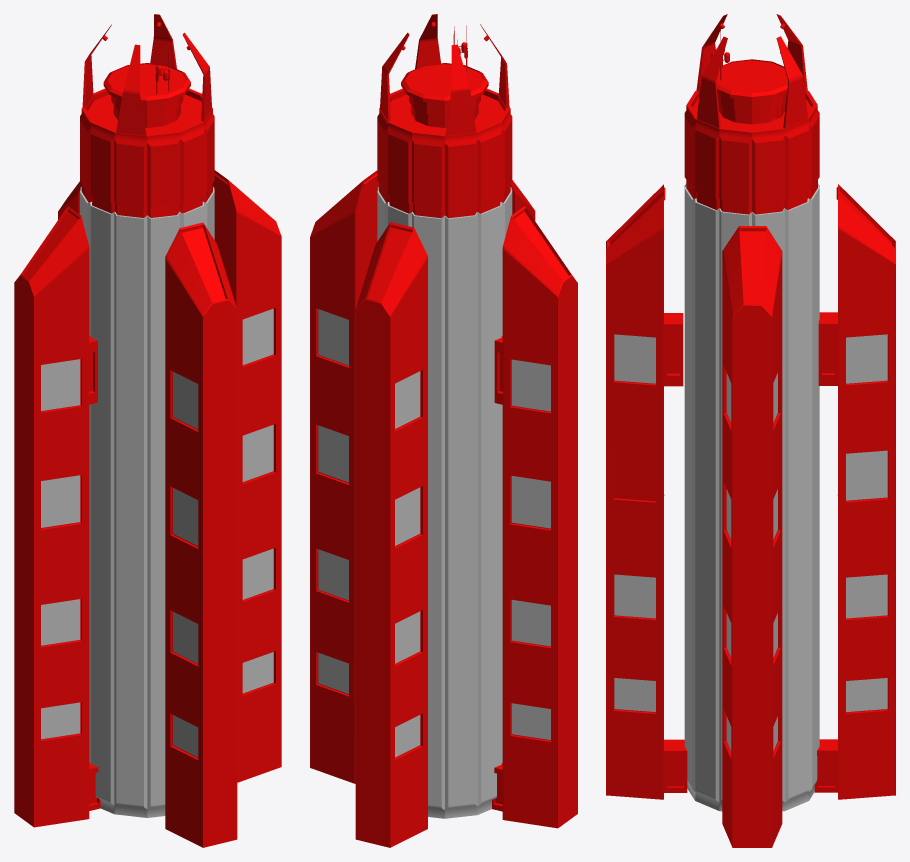
The model's file is Building.8.fbx.
3 renders of one model, left to right at view 1: azimuth 30°, elevation 25°; view 2: azimuth 150°, elevation 25°; view 3: azimuth 270°, elevation 25°, orthographic.
Parts seen in each view (by area): view 1: Building_8; view 2: Building_8; view 3: Building_8.
Boxes of the visible parts, left/top/right/bottom form: Building_8: left=14, top=14, right=281, bottom=847; Building_8: left=310, top=14, right=577, bottom=847; Building_8: left=606, top=14, right=895, bottom=847.
Size of the model in its own units: 2463 by 7228 by 2496.
